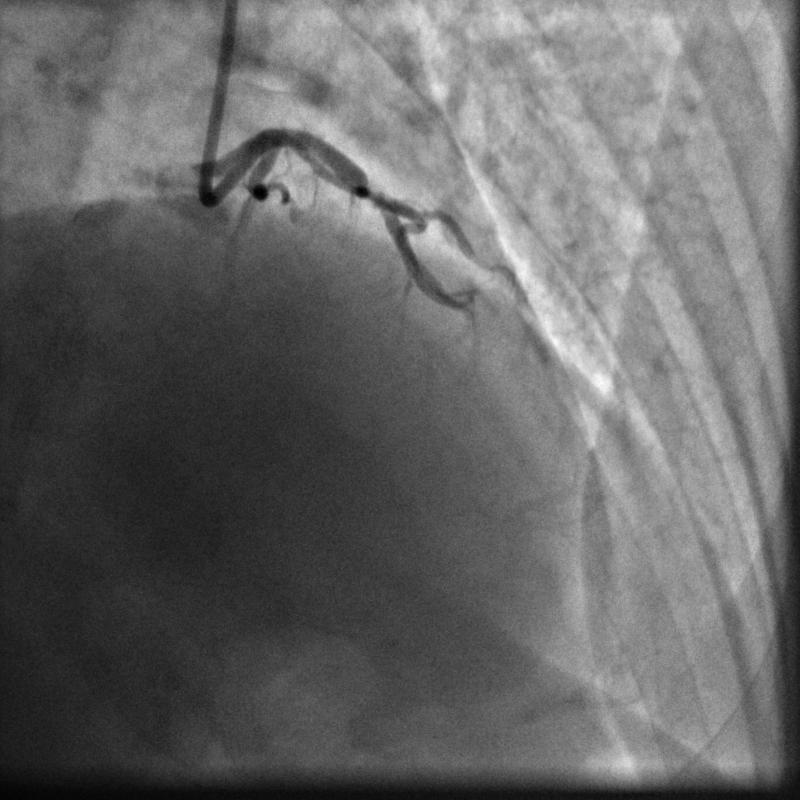Stenosis: (365, 179, 382, 212)
